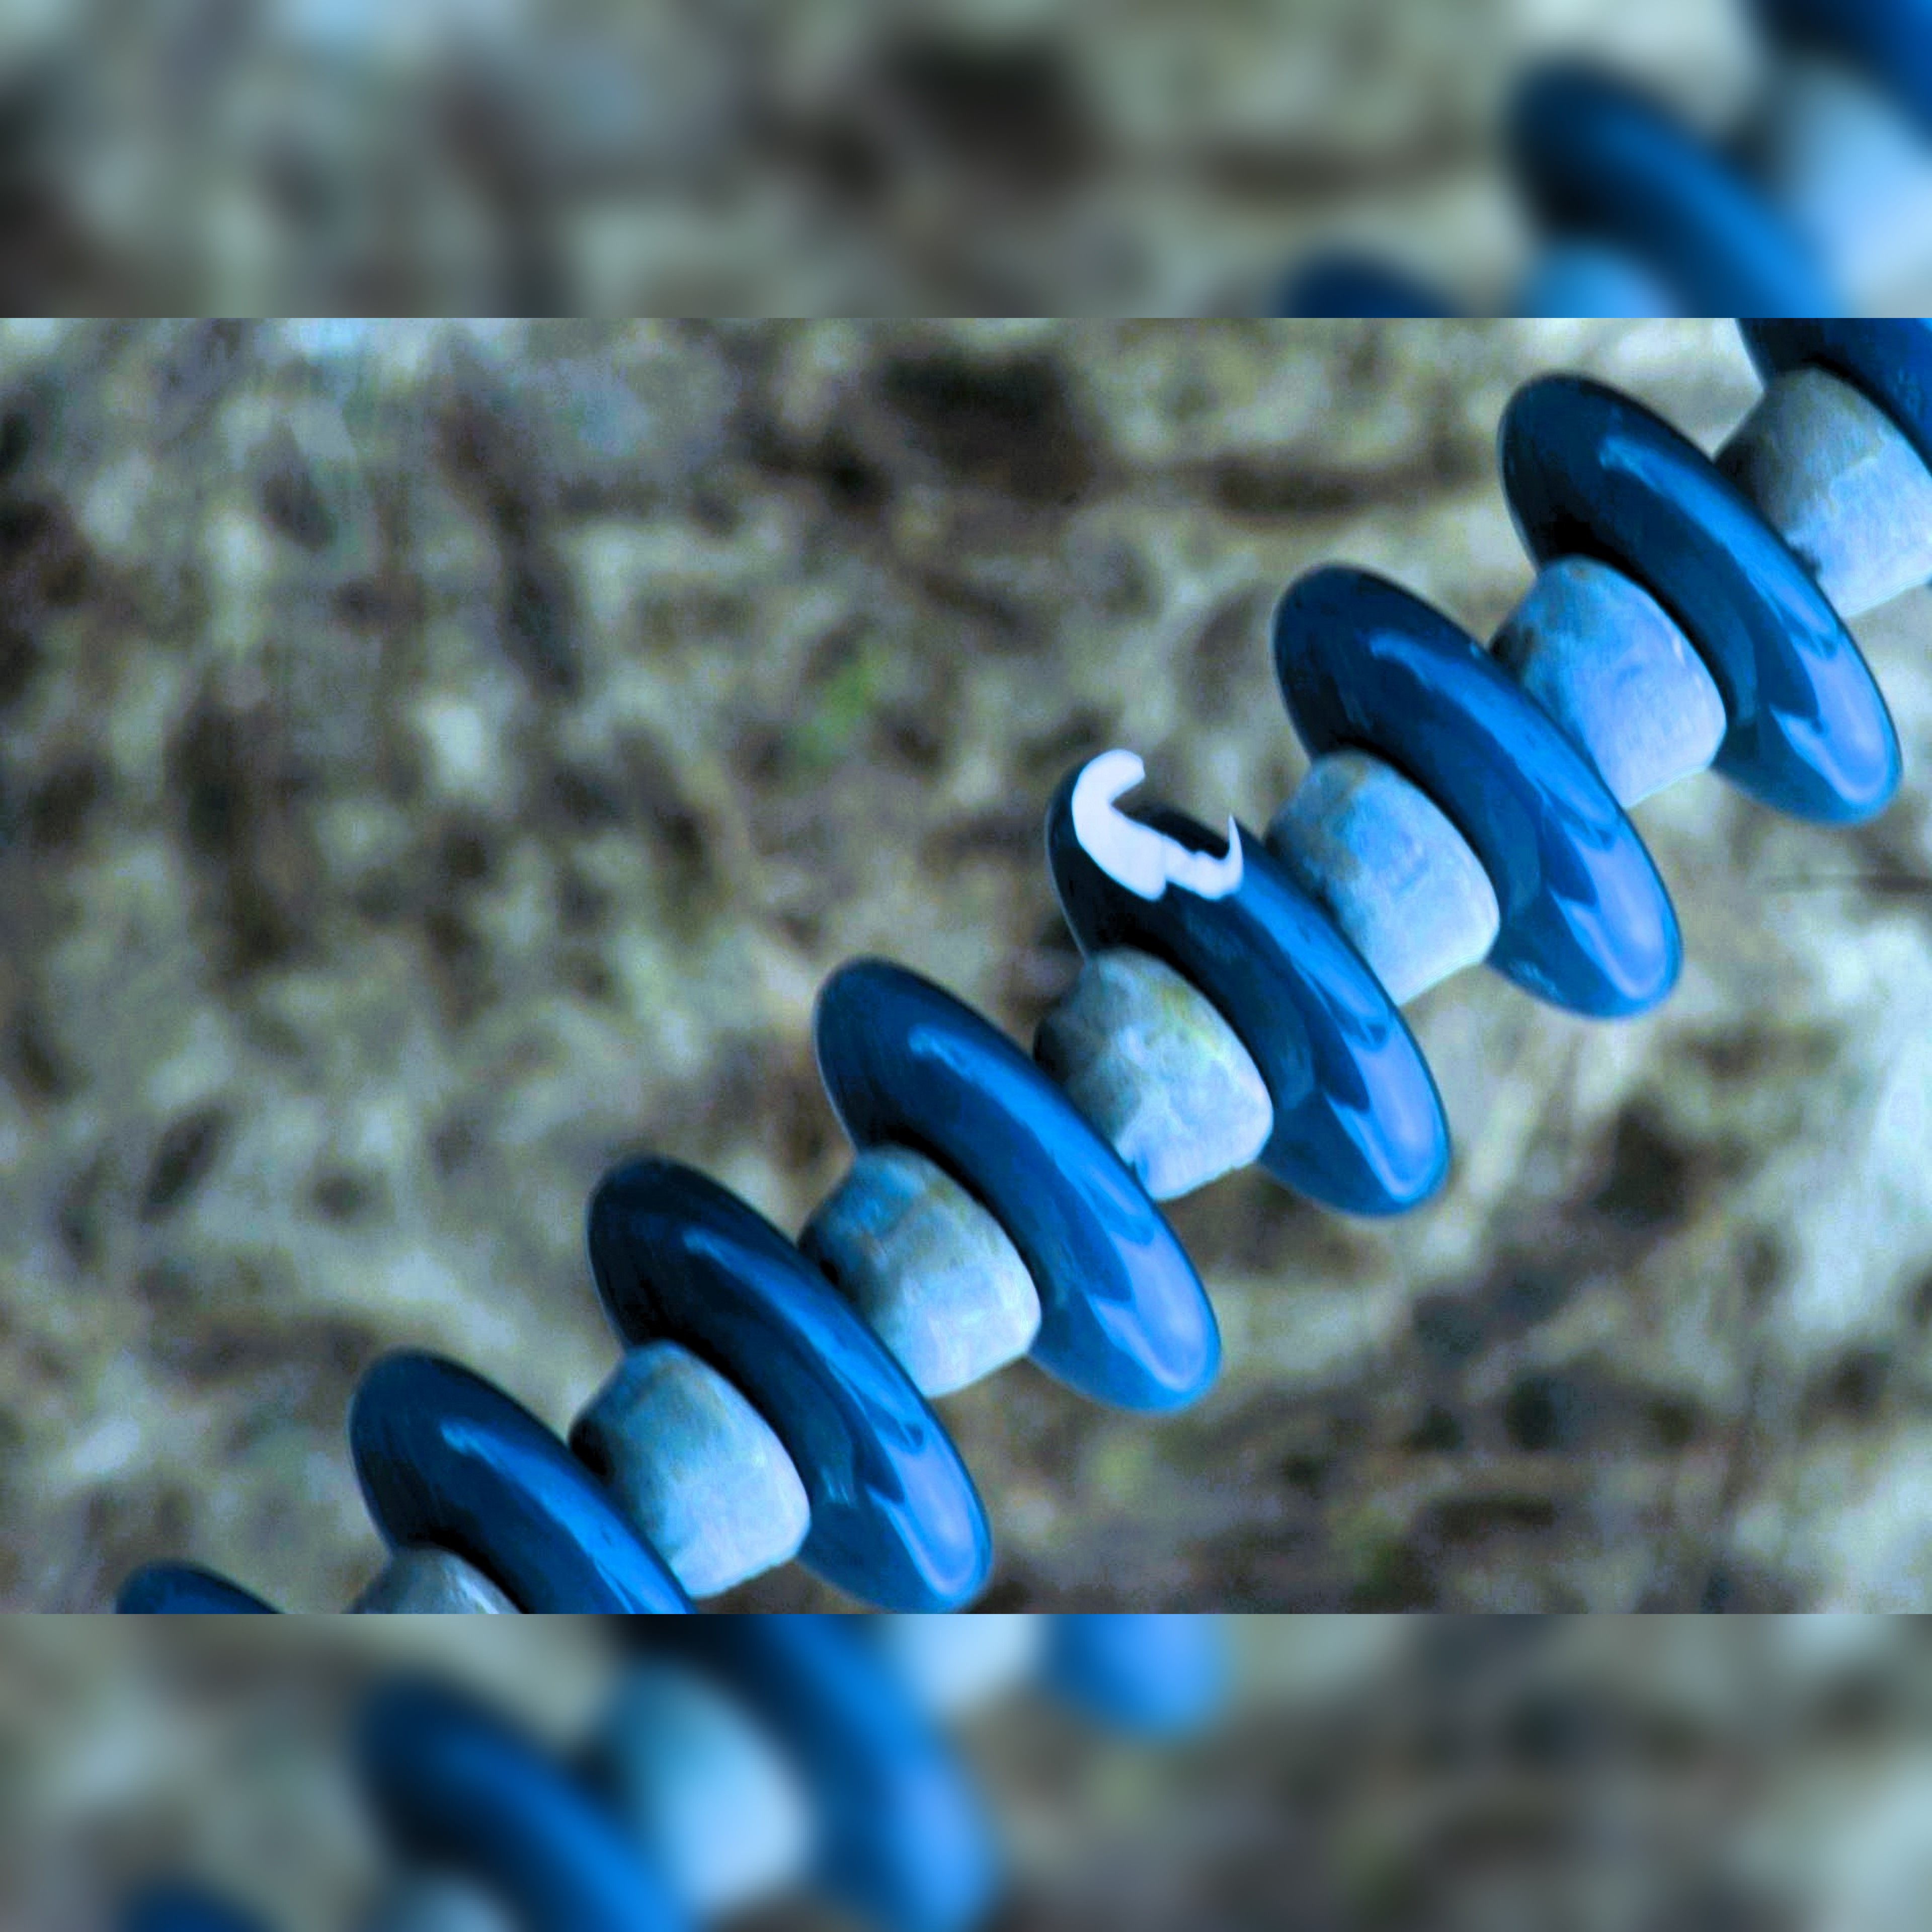insulator breakage: (1021, 731, 1497, 1242)
